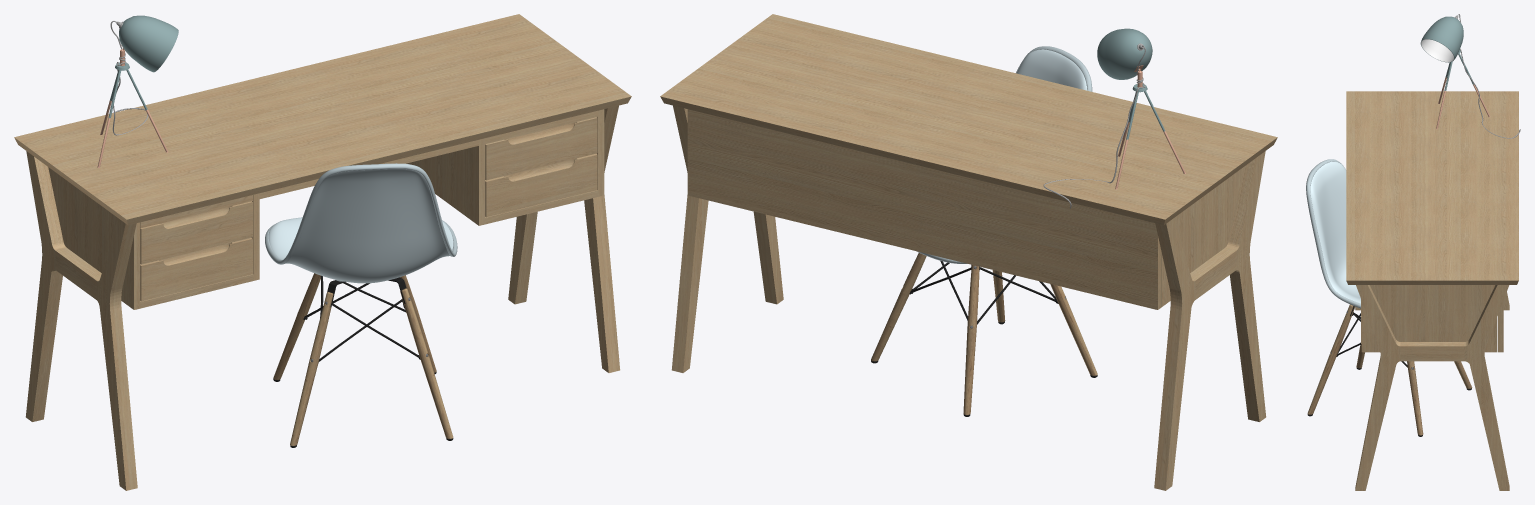
The model's file is modern_desk.glb.
3 renders of one model, left to right at view 1: azimuth 30°, elevation 25°; view 2: azimuth 150°, elevation 25°; view 3: azimuth 270°, elevation 25°, orthographic. The views are drawn at different scales.
Parts seen in each view (by area): view 1: Office_Desks_Wooden_01_5, Seating_Chairs_Scandinavian_01_4, Office_Desks_Wooden_01_Drawers_2, Lighting_Table-Lamps_Cute_01_1; view 2: Office_Desks_Wooden_01_5, Seating_Chairs_Scandinavian_01_4, Lighting_Table-Lamps_Cute_01_1; view 3: Office_Desks_Wooden_01_5, Seating_Chairs_Scandinavian_01_4, Lighting_Table-Lamps_Cute_01_1.
Part boxes in pixels (bbox=[...]): Office_Desks_Wooden_01_5: bbox=[14, 14, 631, 490]; Seating_Chairs_Scandinavian_01_4: bbox=[265, 163, 457, 447]; Office_Desks_Wooden_01_Drawers_2: bbox=[140, 117, 597, 301]; Lighting_Table-Lamps_Cute_01_1: bbox=[97, 15, 178, 167]; Office_Desks_Wooden_01_5: bbox=[660, 14, 1277, 490]; Seating_Chairs_Scandinavian_01_4: bbox=[871, 46, 1097, 416]; Lighting_Table-Lamps_Cute_01_1: bbox=[1097, 28, 1185, 189]; Office_Desks_Wooden_01_5: bbox=[1346, 91, 1518, 490]; Seating_Chairs_Scandinavian_01_4: bbox=[1306, 159, 1472, 436]; Lighting_Table-Lamps_Cute_01_1: bbox=[1420, 15, 1490, 128].
Bounding box in the file's own units: 1.45 × 1.13 × 0.6963.
Materials: 12 (2 with a texture image).
